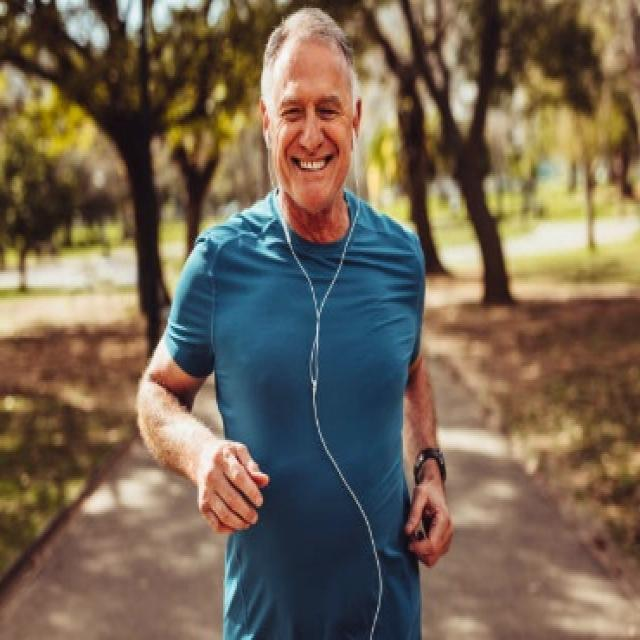adult: (131, 3, 453, 637)
